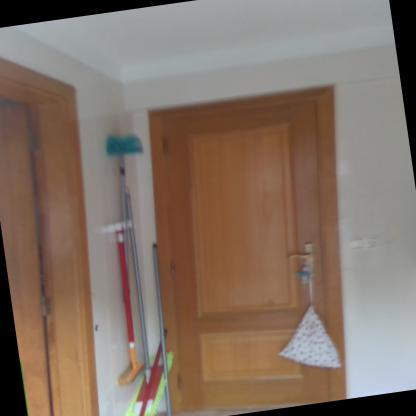closed: (141, 74, 374, 415), (0, 68, 136, 415)
